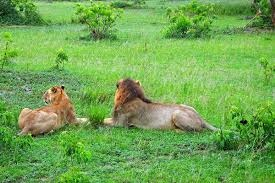lion: (95, 75, 241, 137), (14, 84, 91, 140)
